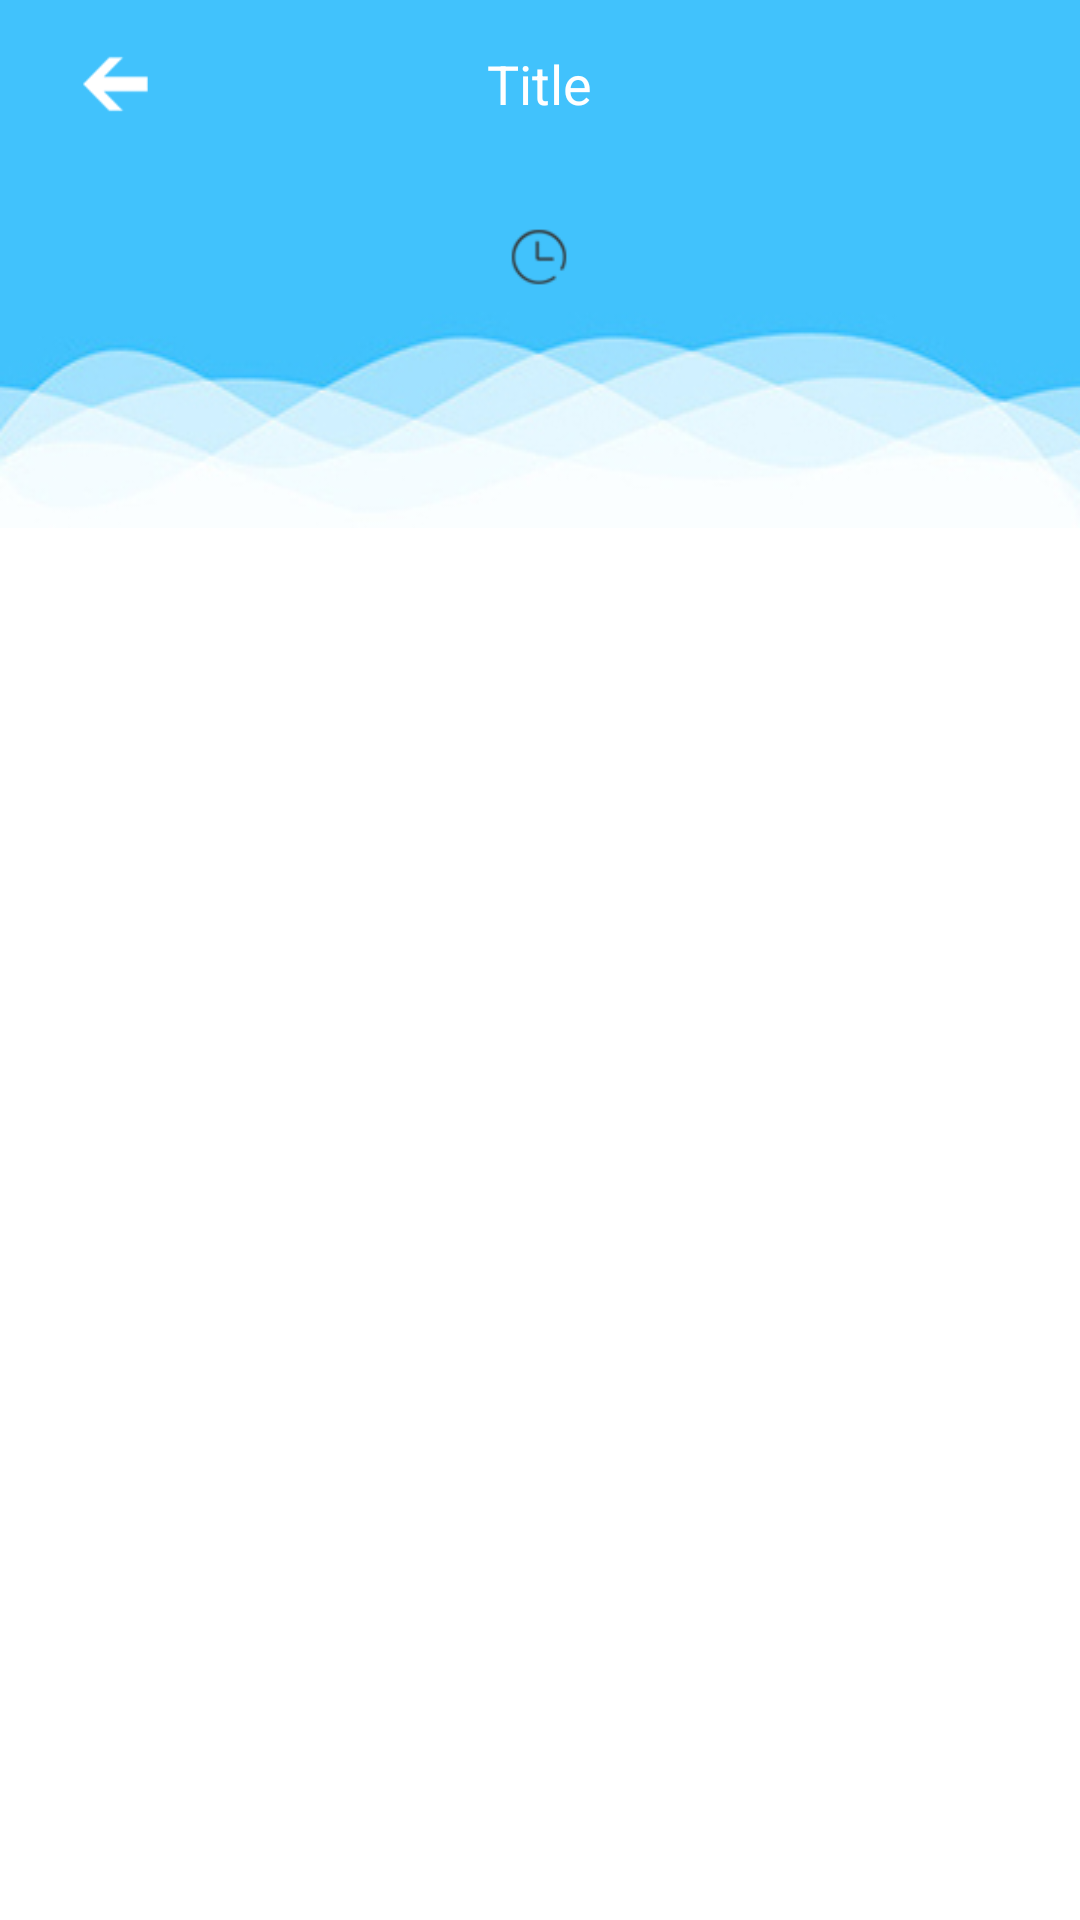

Where to tap for icons on this 1080 x 1920 app screen, as (x=x, y=y):
clock: (x=539, y=257)
